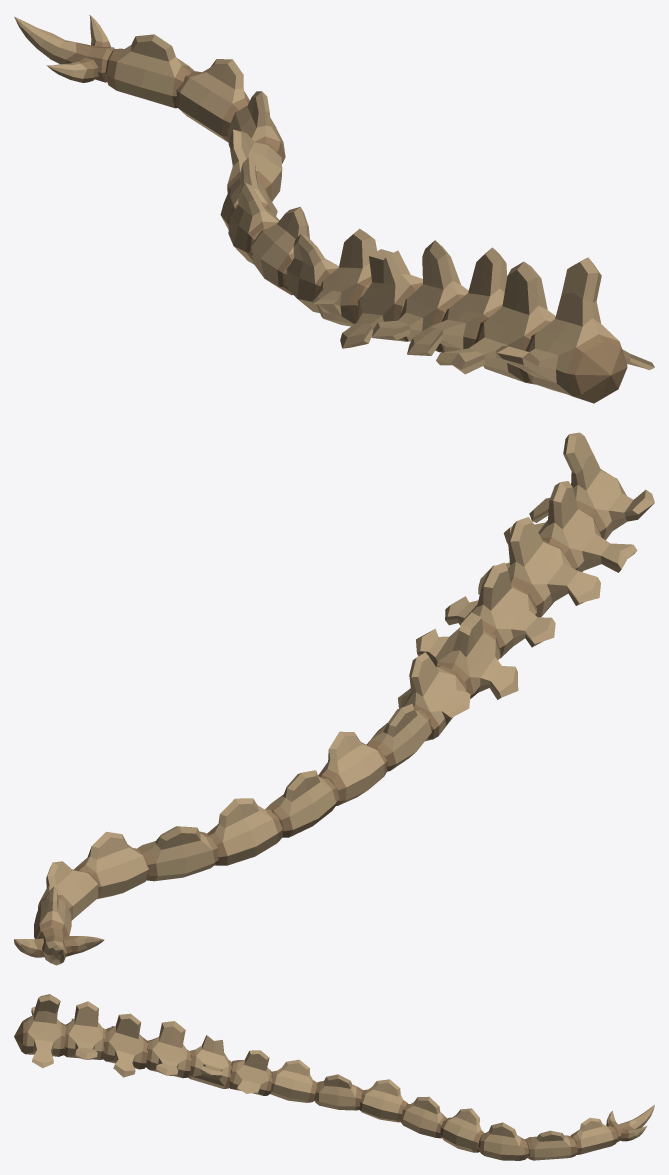
File: SM_Env_Bone_Tail_01.glb
3 renders of one model, top to bottom at view 1: azimuth 30°, elevation 25°; view 2: azimuth 150°, elevation 25°; view 3: azimuth 270°, elevation 25°, orthographic. The views are drawn at different scales.
Visible parts, largest first — view 1: SM_Env_Bone_Tail_01; view 2: SM_Env_Bone_Tail_01; view 3: SM_Env_Bone_Tail_01.
Boxes of the visible parts, x1=… form: SM_Env_Bone_Tail_01: x1=14, y1=15, x2=654, y2=403; SM_Env_Bone_Tail_01: x1=14, y1=432, x2=654, y2=965; SM_Env_Bone_Tail_01: x1=14, y1=994, x2=654, y2=1160.
Bounding box in the file's own units: 0.0715 × 0.0715 × 0.3054.
1 material, 1 textured.
